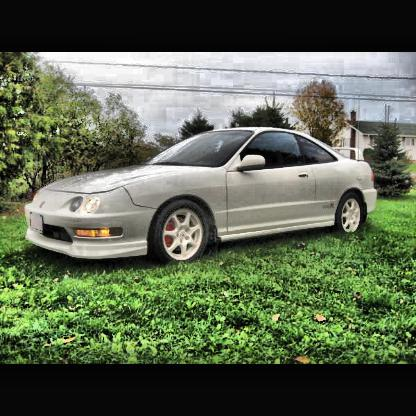Acura Integra Type R 2001: (26, 125, 378, 268)
